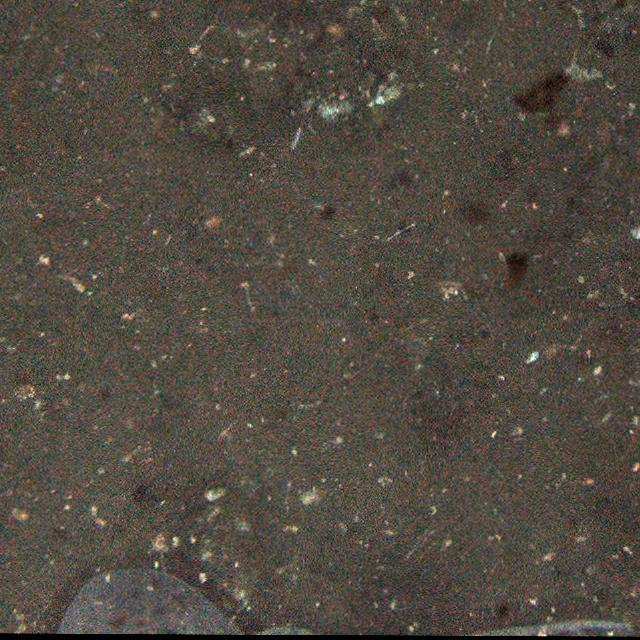skate: (54, 566, 248, 634)
